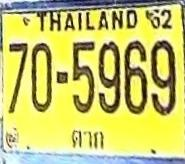0: (30, 42, 52, 112)
5: (72, 42, 94, 113)
6: (124, 40, 148, 114)
7: (9, 42, 28, 115)
9: (150, 40, 176, 115), (97, 42, 120, 114)
TAK: (66, 127, 108, 152)
